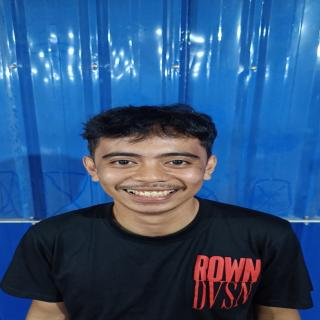Senang: (87, 125, 213, 216)
